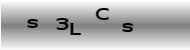3: (54, 16, 68, 31)
C: (94, 6, 109, 20)
L: (68, 21, 82, 36)
s: (25, 17, 39, 29), (120, 22, 133, 32)
